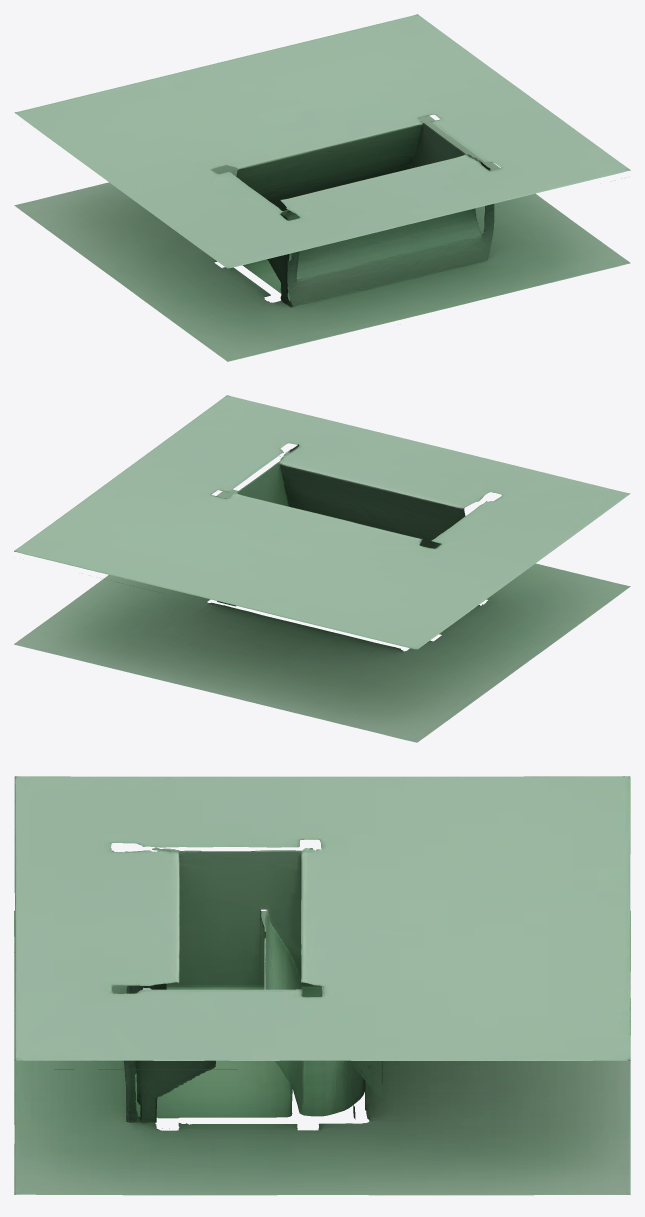
3 views of the same model, one above another, from view 1: azimuth 30°, elevation 25°; view 2: azimuth 150°, elevation 25°; view 3: azimuth 270°, elevation 25° (orthographic). The views are drawn at different scales.
Parts seen in each view (by area): view 1: geometry_0; view 2: geometry_0; view 3: geometry_0.
Boxes of the visible parts, box(x1,y1,x2,y2) form: geometry_0: box(14, 14, 630, 361); geometry_0: box(14, 395, 630, 742); geometry_0: box(14, 776, 630, 1195).
Size of the model in its own units: 1 by 0.2391 by 0.9157.
1 material, 1 textured.
